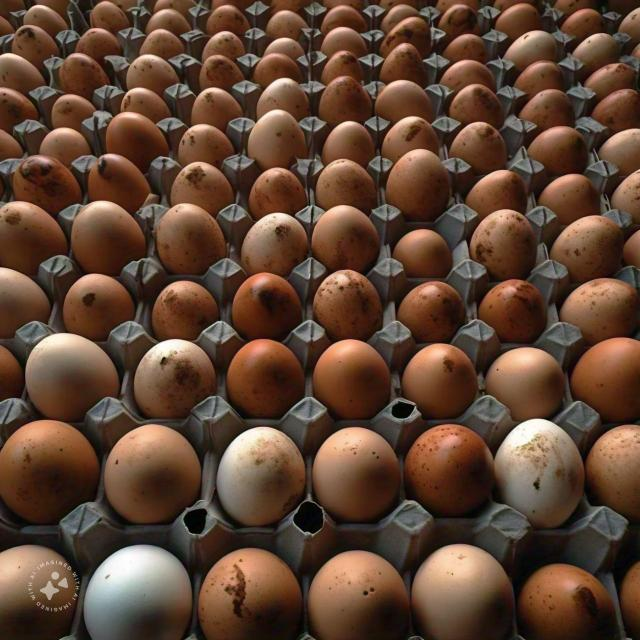Dirt Stained Egg: (84, 420, 214, 530), (218, 417, 326, 548), (318, 426, 413, 524), (306, 275, 430, 332), (228, 333, 308, 419), (218, 208, 320, 271), (133, 336, 217, 408), (148, 292, 229, 358), (232, 261, 297, 342), (316, 210, 388, 281), (45, 270, 128, 330)
